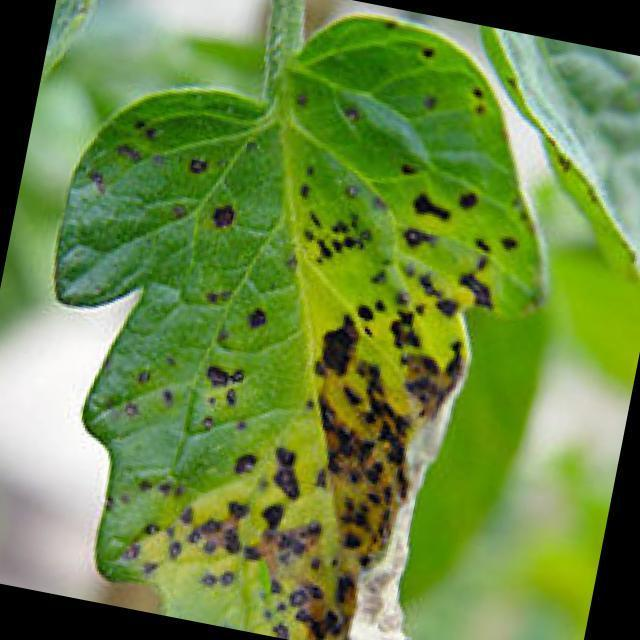Bacterial Spot: (91, 49, 504, 640)
